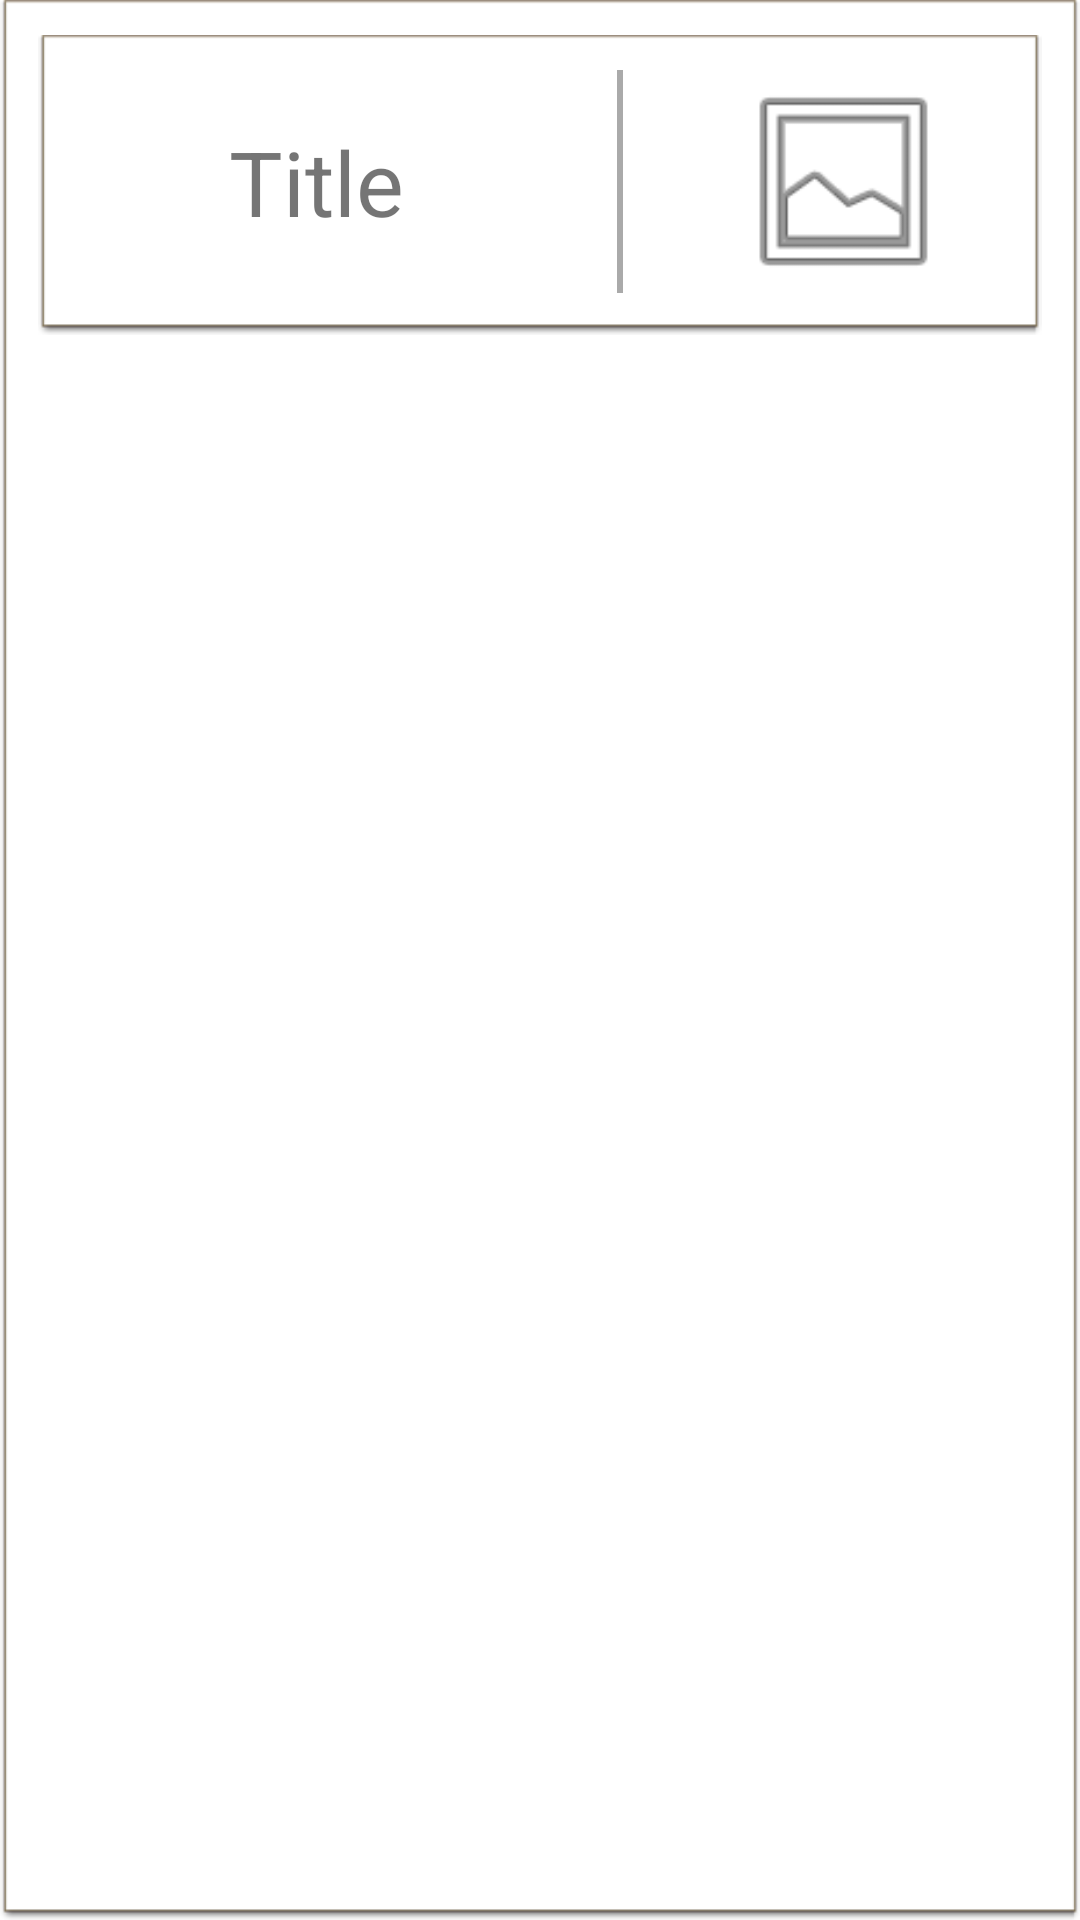

Named icons in this screenshot (1080 × 1920) and their centers, (x,y):
gallery: (843,181)
